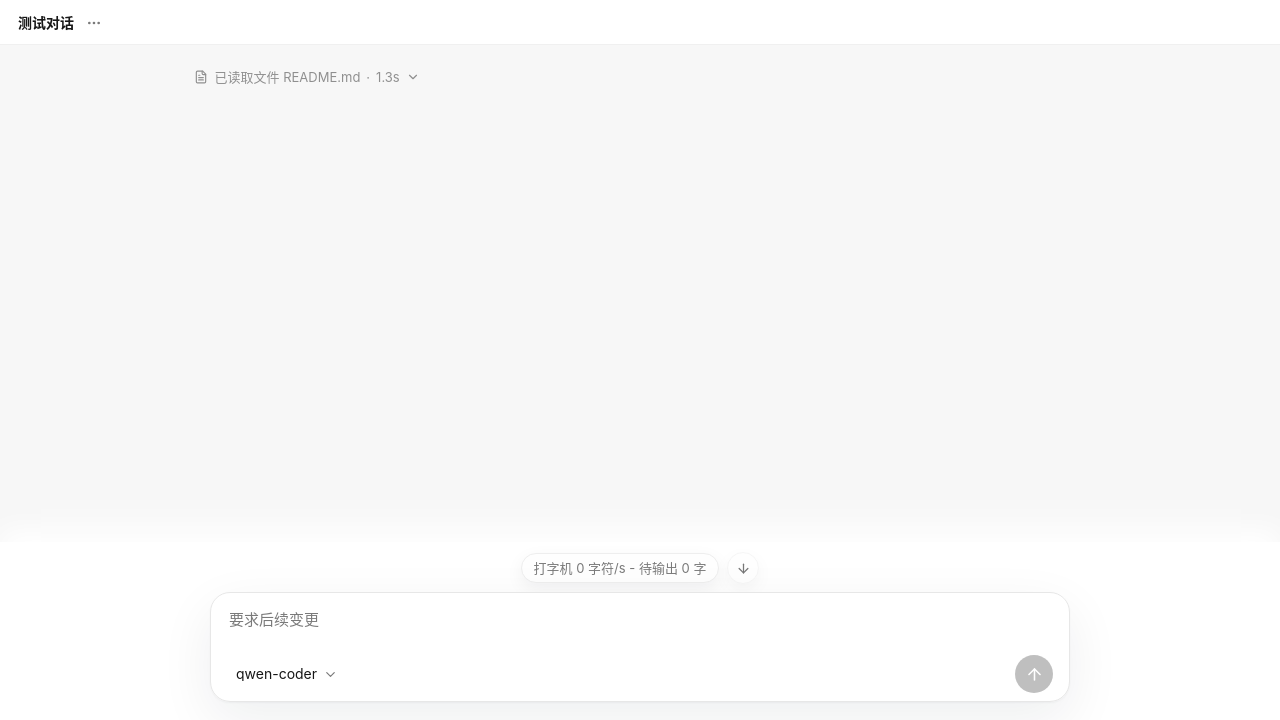
Test: ConversationPage › restores tool history as collapsed tool panels with result details
Expected: the text "已读取文件 README.md" is shown, left=214, top=68, right=360, bottom=87
Click the button with aria-label "展开工具详情": (306, 77) left=192, top=66, right=420, bottom=89
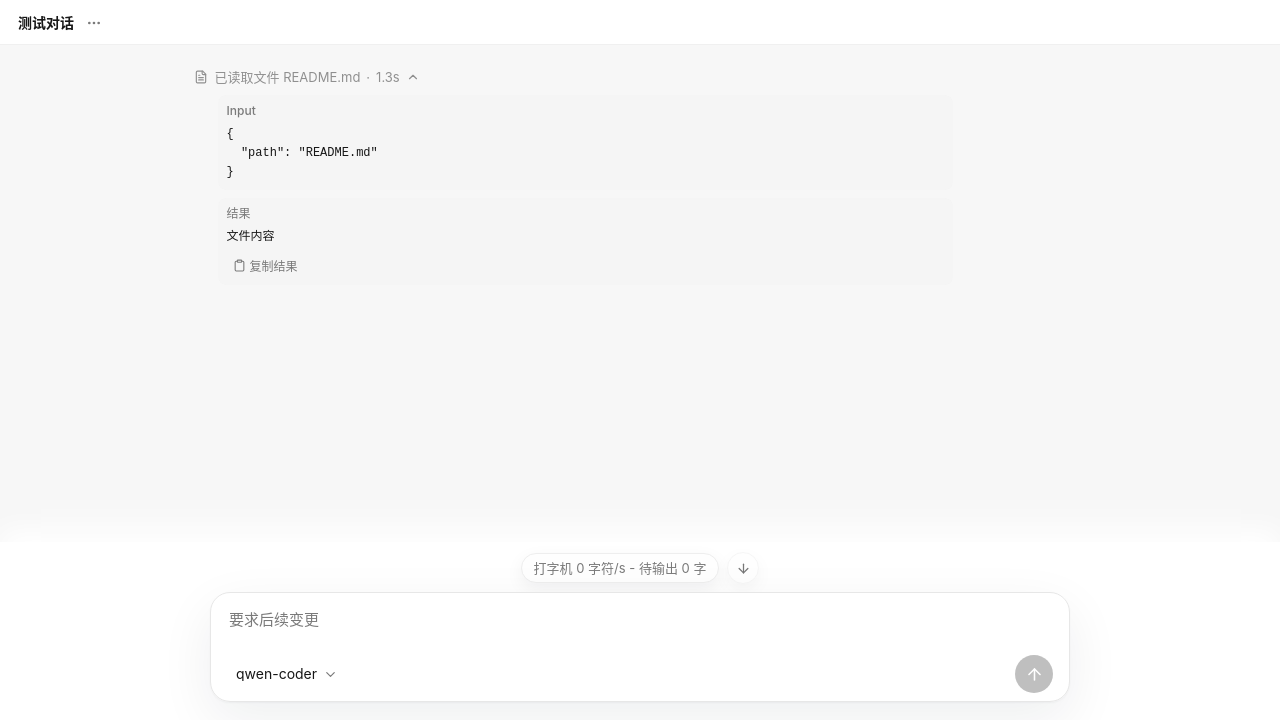
Expected: the element named "工具参数" shows "\"path\": \"README.md\"", left=226, top=127, right=378, bottom=179
Expected: the text "文件内容" is shown, left=226, top=230, right=274, bottom=244
